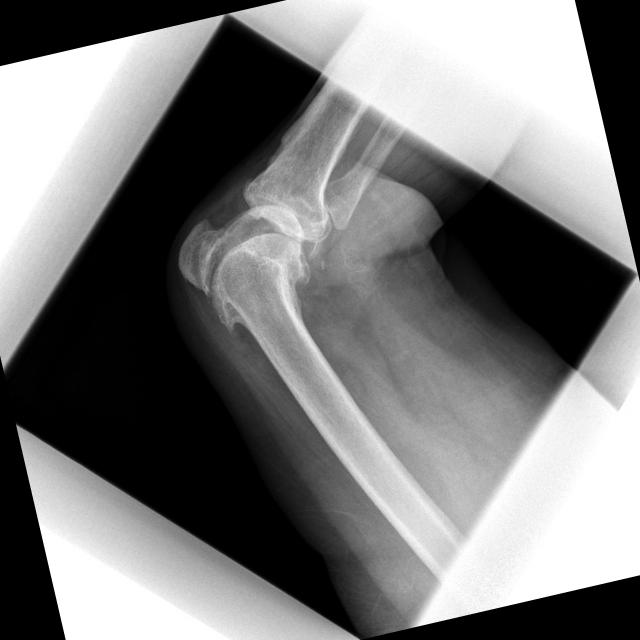Knee: (150, 143, 354, 352)
